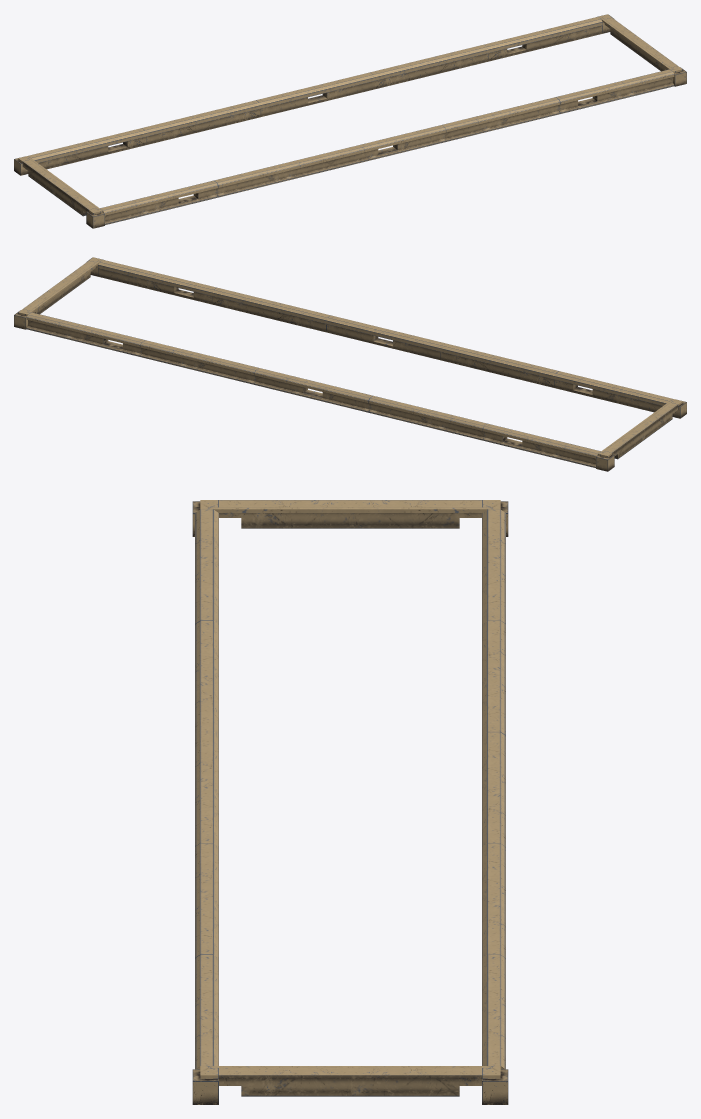
Rendered from CnFrameBtmA4.fbx.
3 renders of one model, top to bottom at view 1: azimuth 30°, elevation 25°; view 2: azimuth 150°, elevation 25°; view 3: azimuth 270°, elevation 25°, orthographic. The views are drawn at different scales.
Parts seen in each view (by area): view 1: CnFrameBtmA4; view 2: CnFrameBtmA4; view 3: CnFrameBtmA4.
Part boxes in pixels (box(x1,y1,x2,y2)): CnFrameBtmA4: box(14, 14, 686, 228); CnFrameBtmA4: box(14, 257, 686, 471); CnFrameBtmA4: box(192, 500, 508, 1104).
Bounding box in the file's own units: 1042 × 23 × 240.
